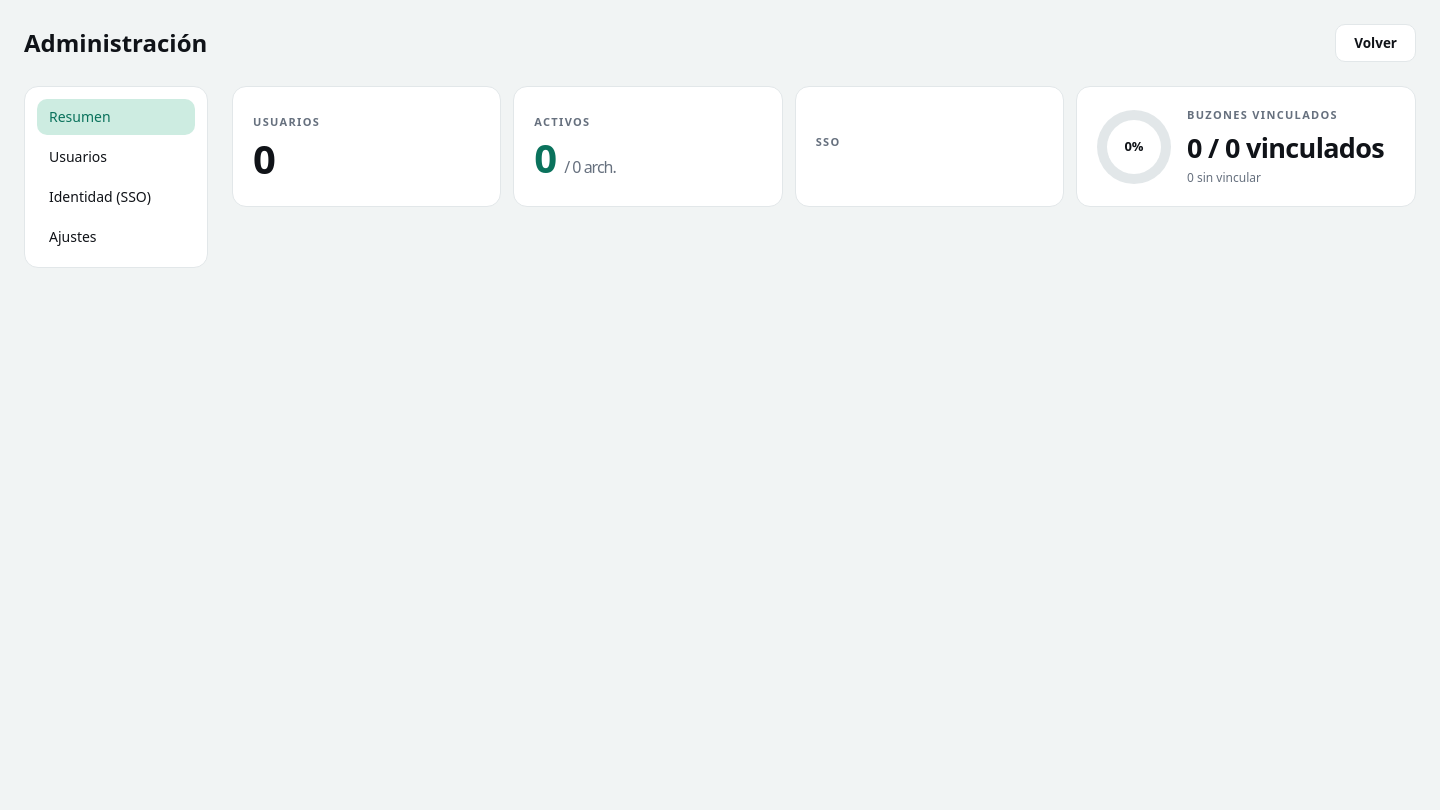
it: AdminPage users table server-driven pagination and search › fetches the next page from the server and updates the range, disabling next at the last page
Click the button "Usuarios".
click(116, 157)  # box [37,139,195,175]
(page scrolled)
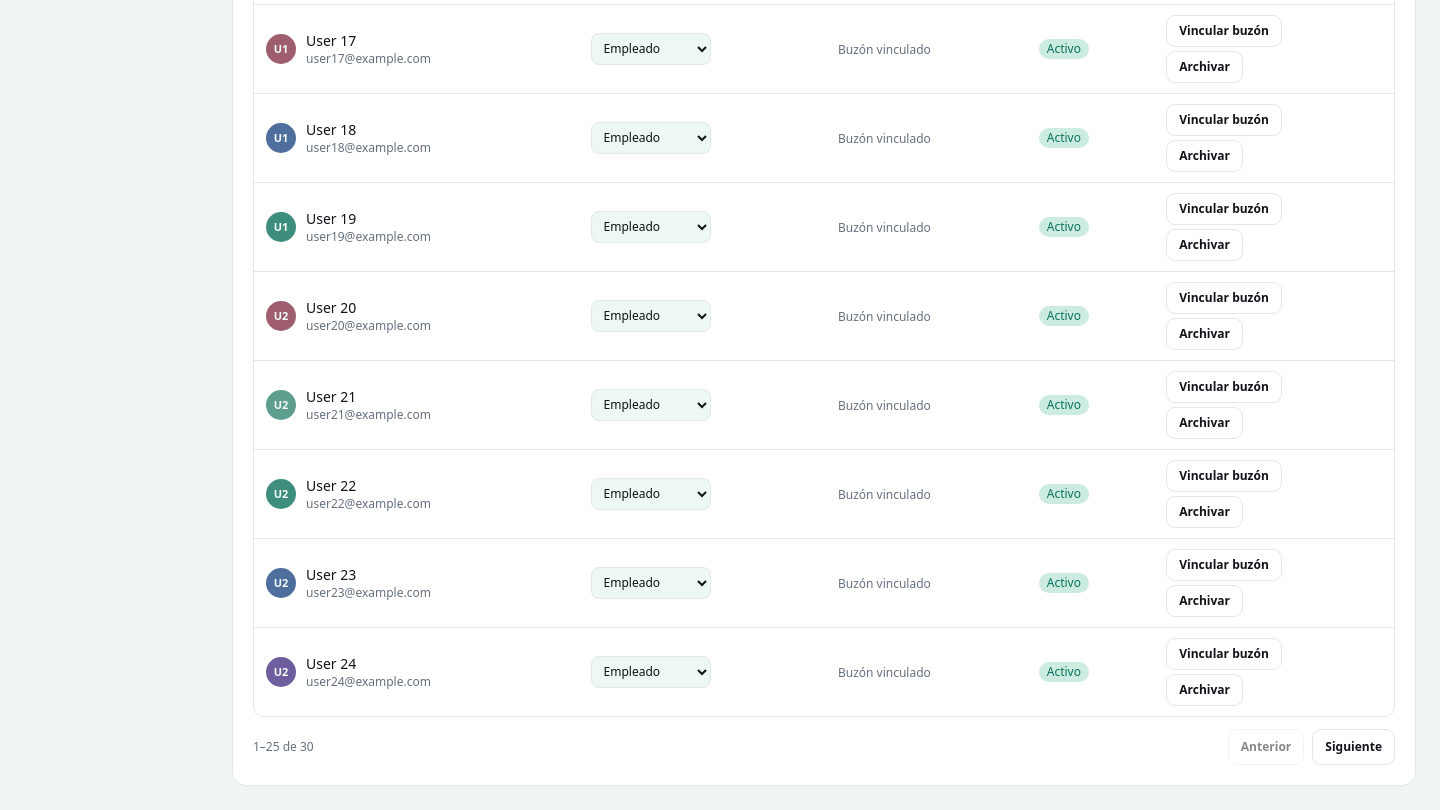
Expected: the button "Anterior" is disabled, [1228,729,1304,765]
Click the button "Siguiente".
click(1354, 747)  # box [1312,729,1395,765]
(page scrolled)
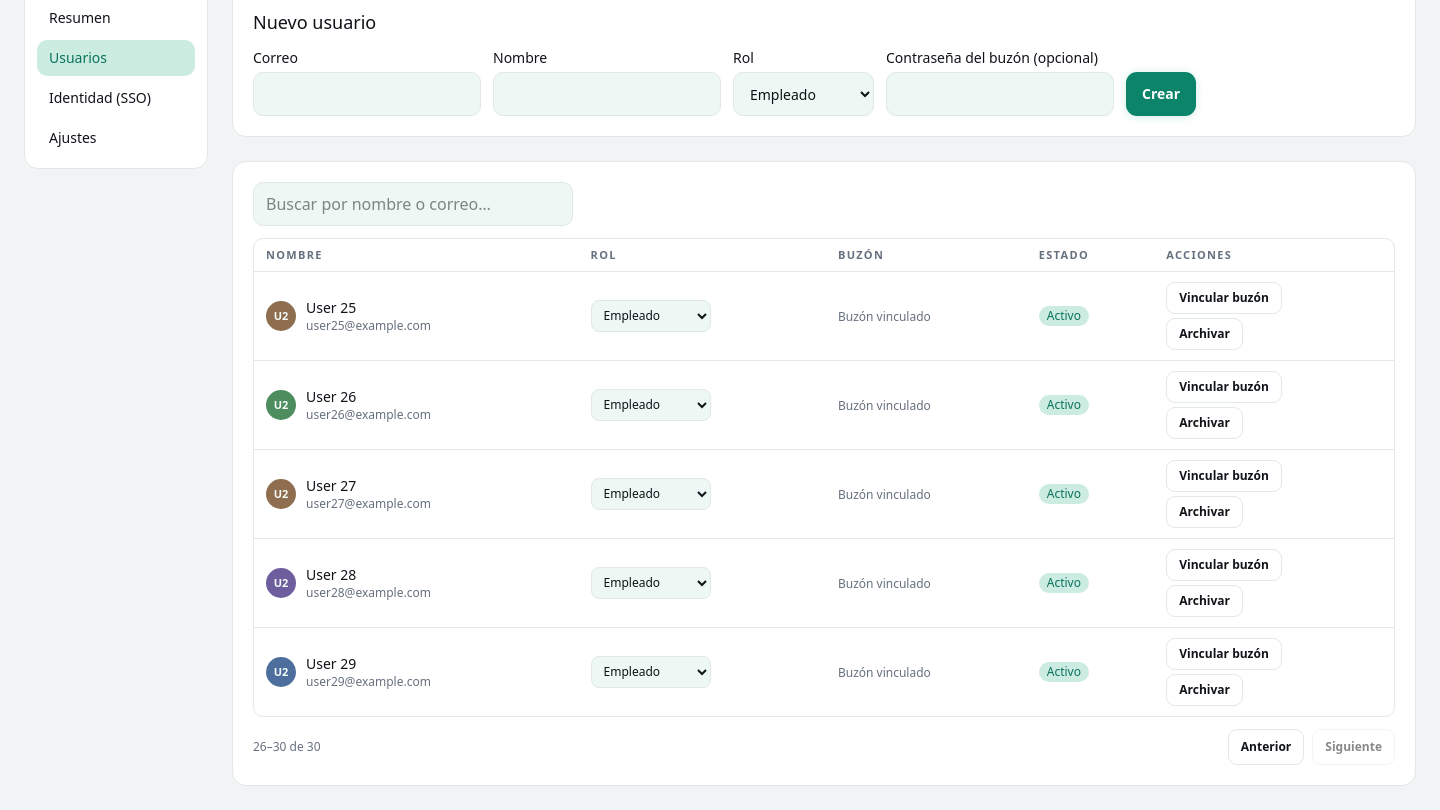
Expected: the text "user25@example.com" is shown, [306,318,431,334]
Expected: the button "Siguiente" is disabled, [1312,729,1395,765]
Expected: the button "Anterior" is enabled, [1228,729,1304,765]
